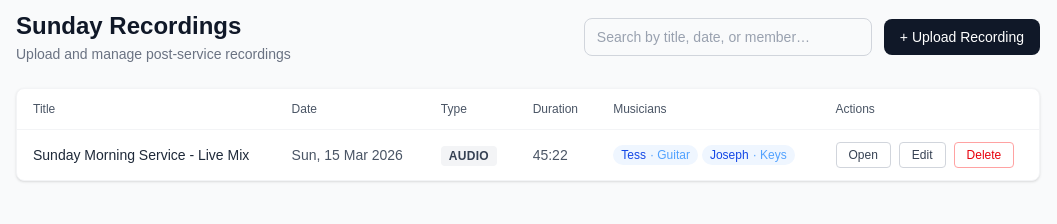
AdminRecordingsPage › shows 'no recordings found' message when search has no matches
The image size is (1057, 224).
Expected: the text "Sunday Morning Service - Live Mix" is shown, 17,130 -> 276,180
Type "zzznomatch" into the search field named "search recordings".
click(728, 37); type("zzznomatch")  # box 584,18 -> 872,56
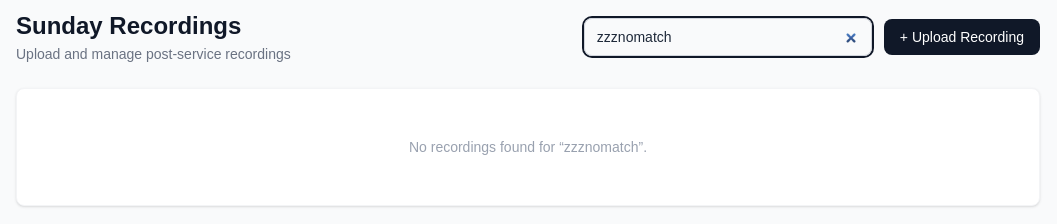
Expected: the text "Sunday Morning Service - Live Mix" is gone
Expected: the text "No recordings found for “zzznomatch”." is shown, 409,139 -> 647,155
